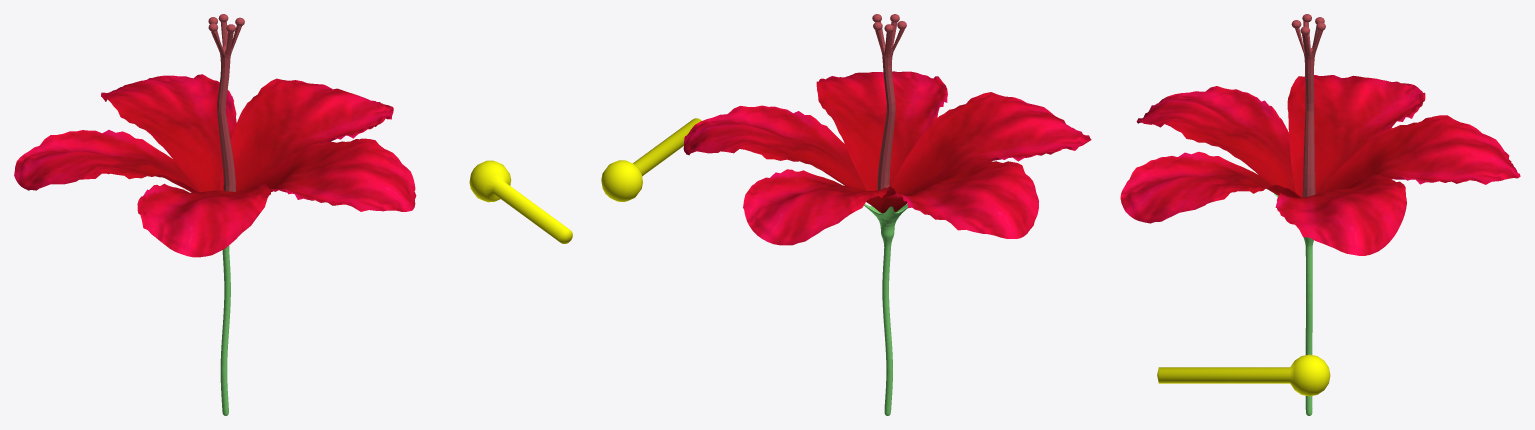
File: hibiscus.fbx
3 views of the same model, side by side, from view 1: azimuth 30°, elevation 25°; view 2: azimuth 150°, elevation 25°; view 3: azimuth 270°, elevation 25° (orthographic).
Parts seen in each view (by area): view 1: Circle, Sphere.001; view 2: Circle, Sphere.001; view 3: Circle, Sphere.001.
Part boxes in pixels (bbox=[...]): Circle: bbox=[14, 14, 416, 415]; Sphere.001: bbox=[469, 160, 572, 243]; Circle: bbox=[683, 14, 1091, 415]; Sphere.001: bbox=[601, 118, 701, 201]; Circle: bbox=[1120, 14, 1520, 415]; Sphere.001: bbox=[1157, 354, 1330, 396].
Size of the model in its own units: 866 by 722 by 663.
